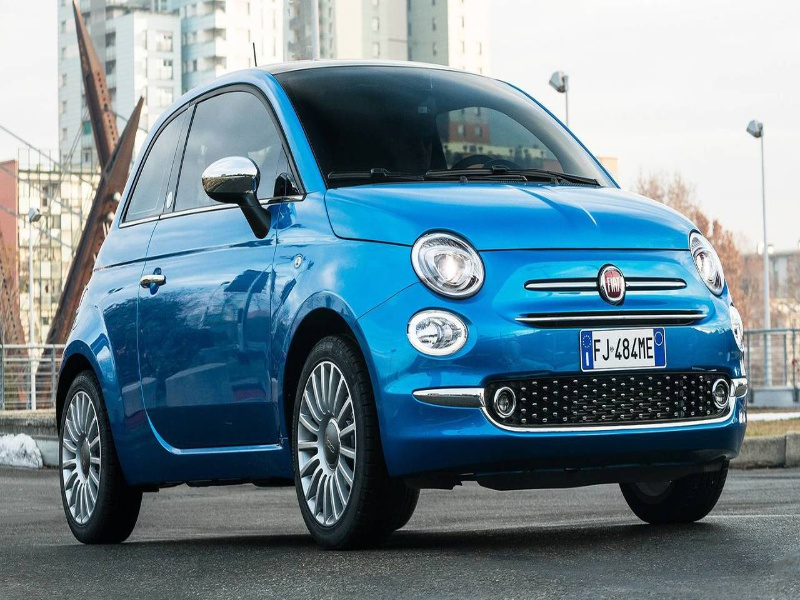licence_plate: (574, 321, 672, 376)
